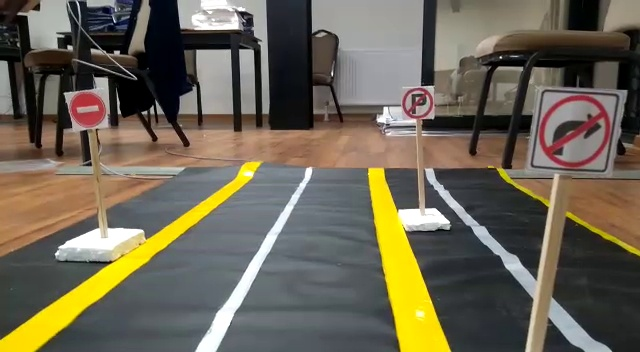girisi_olmayan_yol: (67, 92, 109, 128)
park_yapilmaz: (401, 84, 436, 119)
saga_donulmez: (540, 89, 613, 169)
